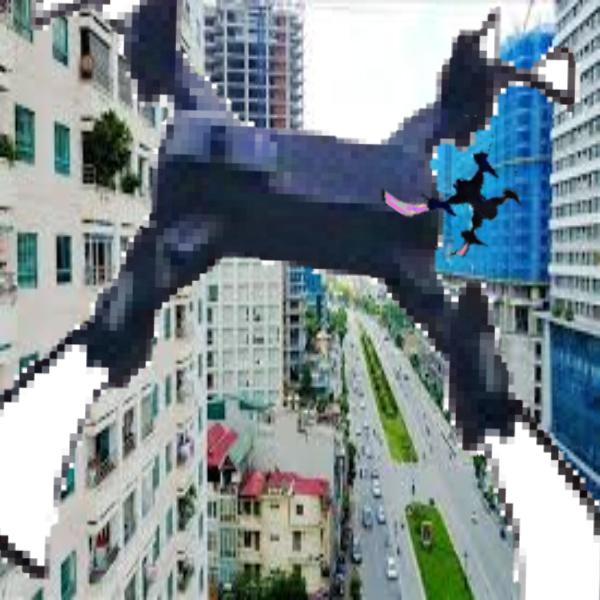drone: (389, 114, 537, 262)
